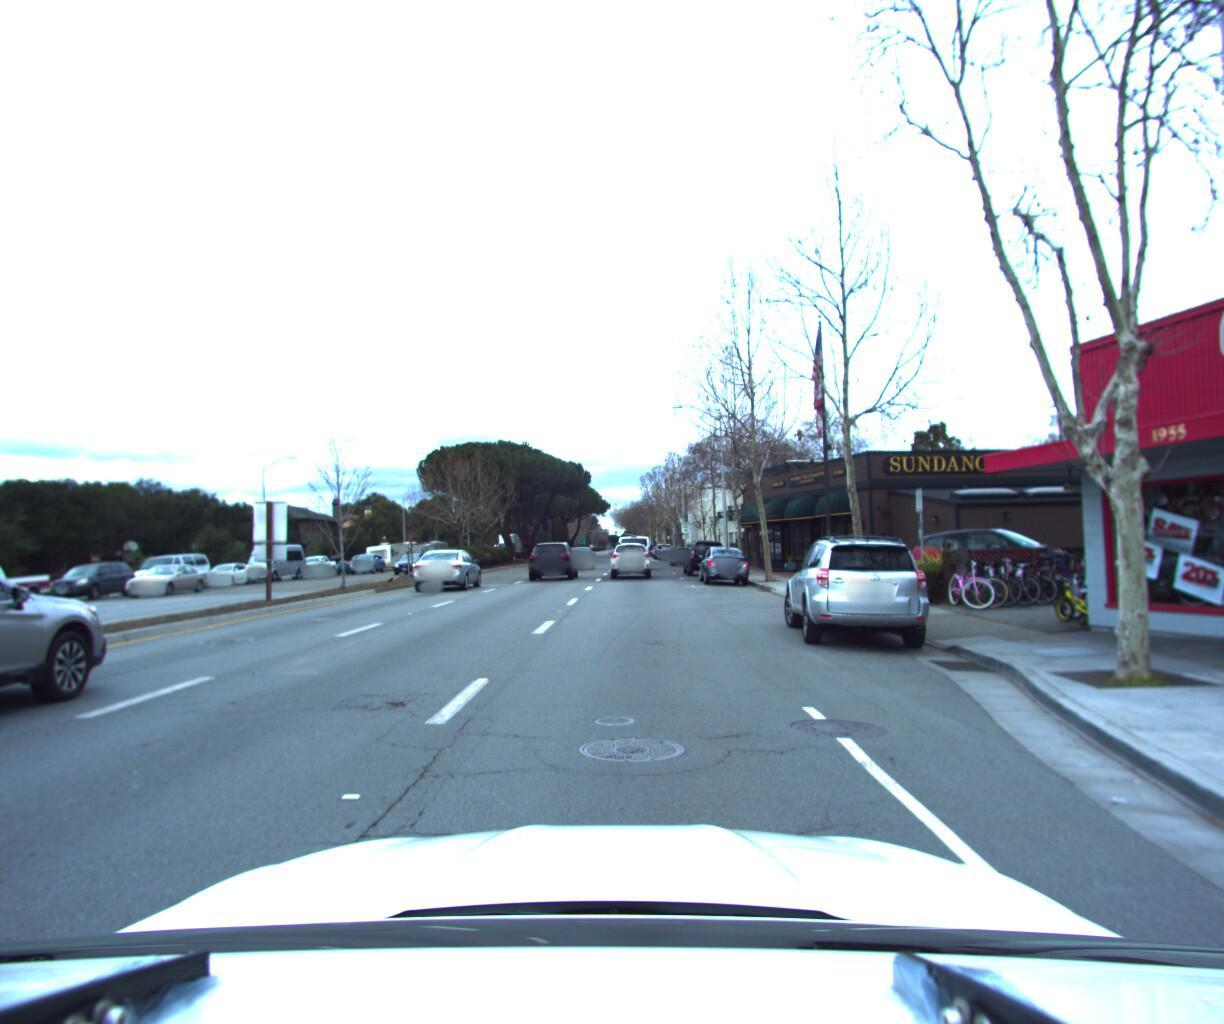bicycle: (1029, 569, 1104, 625), (1049, 568, 1124, 623), (967, 541, 1027, 603), (953, 542, 1009, 604), (1015, 549, 1082, 599), (1034, 548, 1101, 598), (934, 543, 988, 605), (1000, 550, 1061, 601), (984, 553, 1044, 602)
car: (0, 523, 141, 819), (776, 524, 939, 652), (896, 518, 1076, 588), (43, 562, 150, 609), (126, 552, 221, 596), (0, 558, 63, 618), (408, 549, 487, 596), (123, 564, 219, 603), (239, 541, 315, 587), (525, 539, 580, 583), (695, 542, 752, 585), (607, 539, 652, 581), (680, 537, 728, 576), (200, 563, 260, 592), (618, 532, 653, 571), (295, 555, 342, 581), (394, 551, 437, 576), (350, 553, 390, 575), (569, 545, 600, 571), (668, 545, 697, 567)
other_vehicle: (367, 541, 416, 573)
